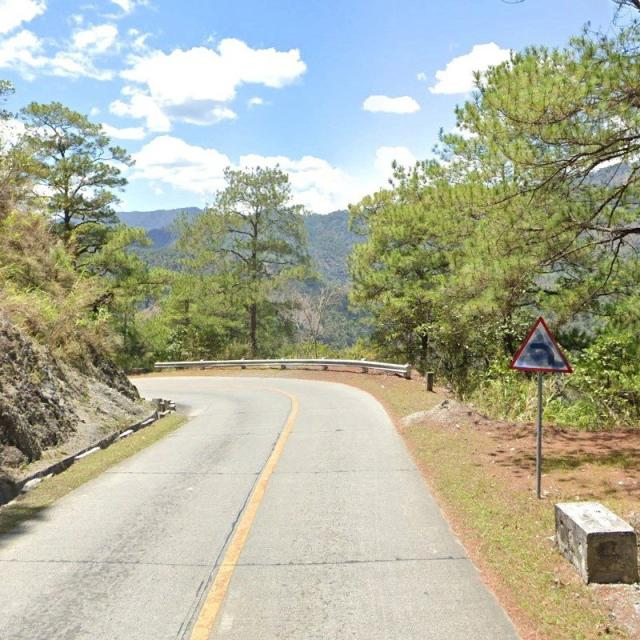warn_left_curve: (509, 316, 573, 373)
